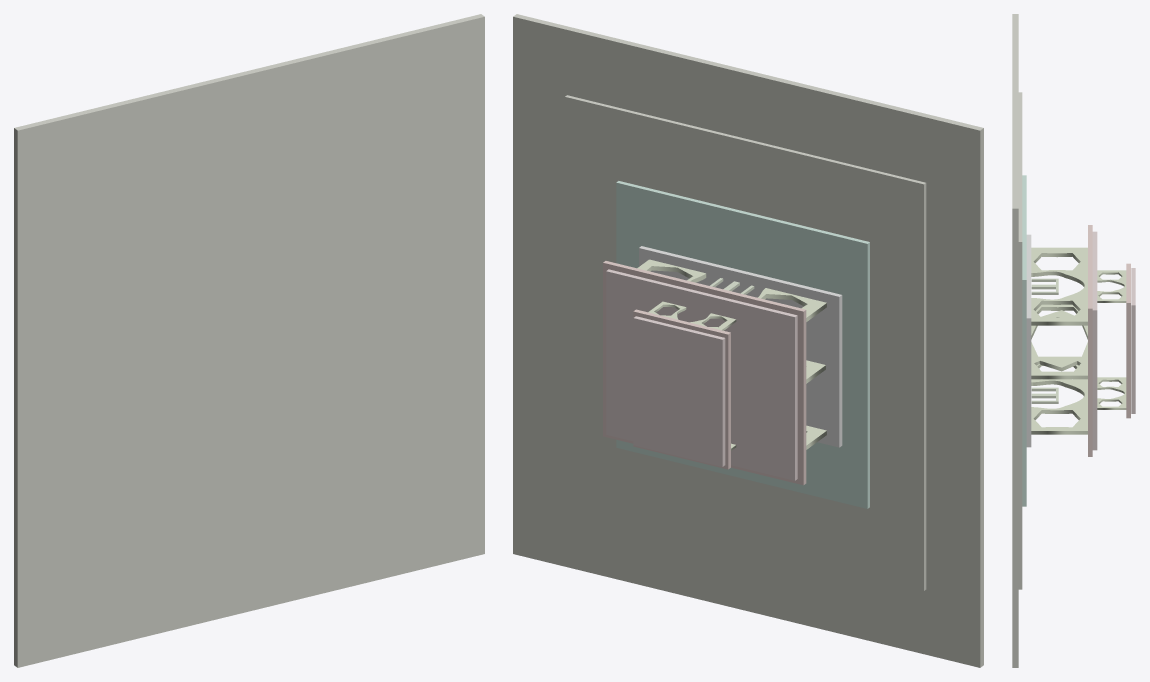
Rendered from templo.glb.
The picture shows the model from 3 angles, left to right: view 1: azimuth 30°, elevation 25°; view 2: azimuth 150°, elevation 25°; view 3: azimuth 270°, elevation 25°; orthographic projection. The views are drawn at different scales.
Parts seen in each view (by area): view 1: Cube.009; view 2: Cube.009, Cube.005, Cube.004, Cube.003, Cube.008, Cube.001, Cube.002, Cube.007, BezierCircle; view 3: Cube.009, BezierCircle, Cube.005, BezierCircle.005, BezierCircle.007, Cube.004, Cube.003, Cube.001, Cube.002, Cube.007, Cube.008, BezierCircle.008 (+3 smaller).
Boxes of the visible parts, x1,y1,x2,y2 form: Cube.009: (14,14,484,667); Cube.009: (513,14,983,667); Cube.005: (565,95,926,590); Cube.004: (616,181,869,508); Cube.003: (606,269,797,480); Cube.008: (633,316,725,466); Cube.001: (639,246,842,447); Cube.002: (603,261,806,485); Cube.007: (633,309,730,469); BezierCircle: (637,259,826,321); Cube.009: (1012,14,1018,667); BezierCircle: (1031,247,1087,325); Cube.005: (1018,92,1022,589); BezierCircle.005: (1031,356,1087,434); BezierCircle.007: (1031,304,1087,379); Cube.004: (1022,175,1026,506); Cube.003: (1092,231,1097,450); Cube.001: (1026,234,1031,447); Cube.002: (1088,225,1092,456); Cube.007: (1126,263,1130,418); Cube.008: (1131,268,1135,413); BezierCircle.008: (1097,270,1126,302).
Bounding box in the file's own units: 17.58 × 19.33 × 4.71.
